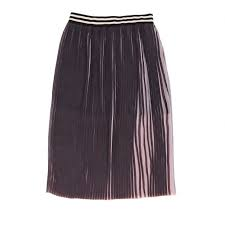C_skirt: (35, 9, 189, 215)
